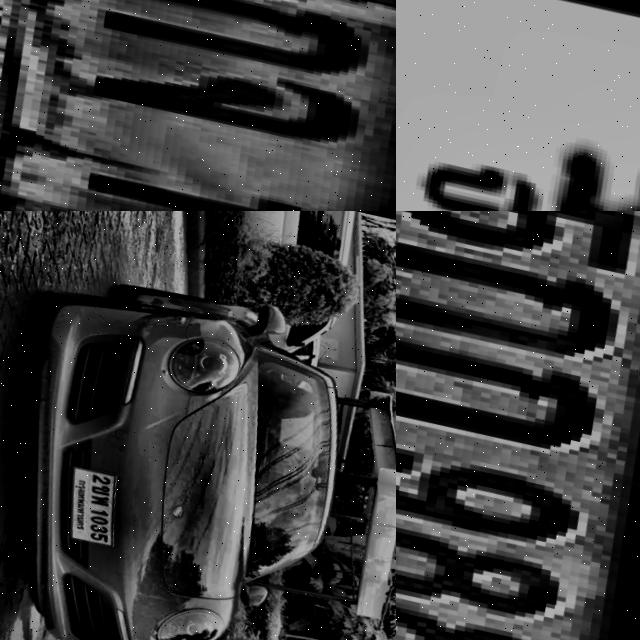license-plate: (396, 211, 640, 640), (0, 0, 396, 211), (396, 0, 640, 211), (41, 460, 127, 555)
